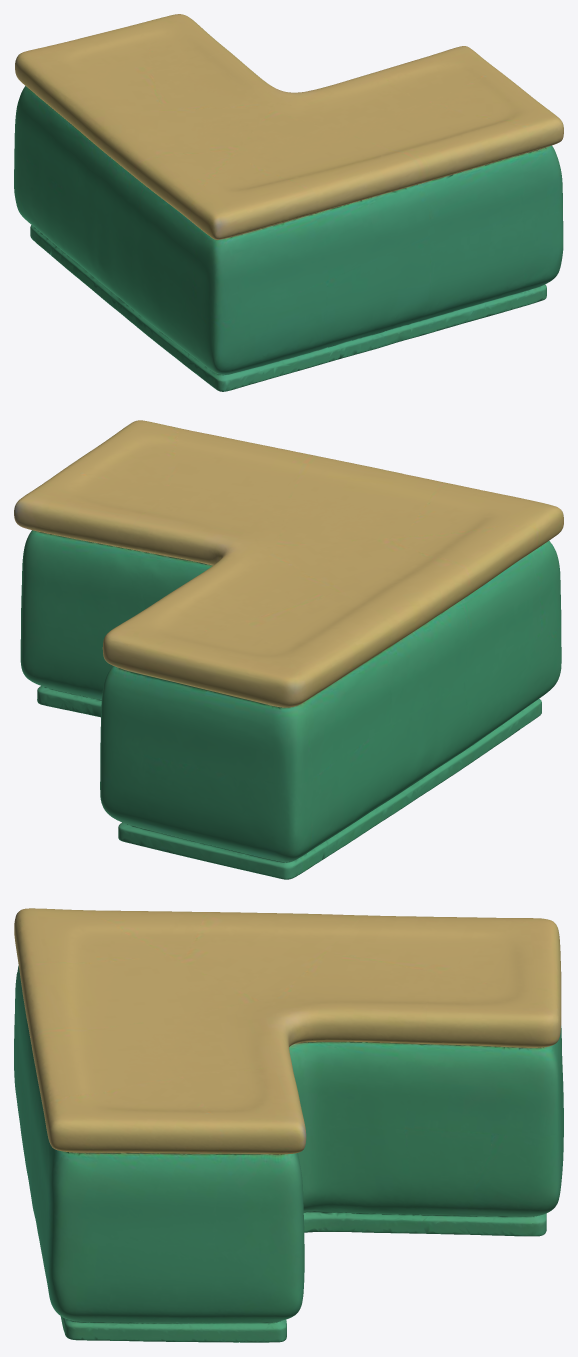
Rendered from Mod_Corner.glb.
The picture shows the model from 3 angles, top to bottom: view 1: azimuth 30°, elevation 25°; view 2: azimuth 150°, elevation 25°; view 3: azimuth 270°, elevation 25°; orthographic projection. The views are drawn at different scales.
Visible parts, largest first — view 1: tripo_node_114b152f-ae68-4593-9f9c-ddc5f6d79f07; view 2: tripo_node_114b152f-ae68-4593-9f9c-ddc5f6d79f07; view 3: tripo_node_114b152f-ae68-4593-9f9c-ddc5f6d79f07.
Part boxes in pixels (<box>): tripo_node_114b152f-ae68-4593-9f9c-ddc5f6d79f07: <box>14,14,563,391</box>; tripo_node_114b152f-ae68-4593-9f9c-ddc5f6d79f07: <box>14,420,563,879</box>; tripo_node_114b152f-ae68-4593-9f9c-ddc5f6d79f07: <box>14,908,563,1342</box>.
Size of the model in its own units: 0.9575 by 0.451 by 1.
Materials: 1 (1 with a texture image).
